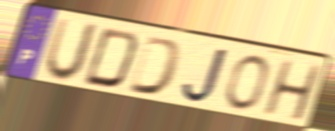D: (80, 26, 142, 91), (126, 34, 186, 99)
H: (260, 59, 324, 124)
J: (179, 45, 232, 105)
O: (223, 53, 271, 113)
U: (42, 16, 102, 85)
